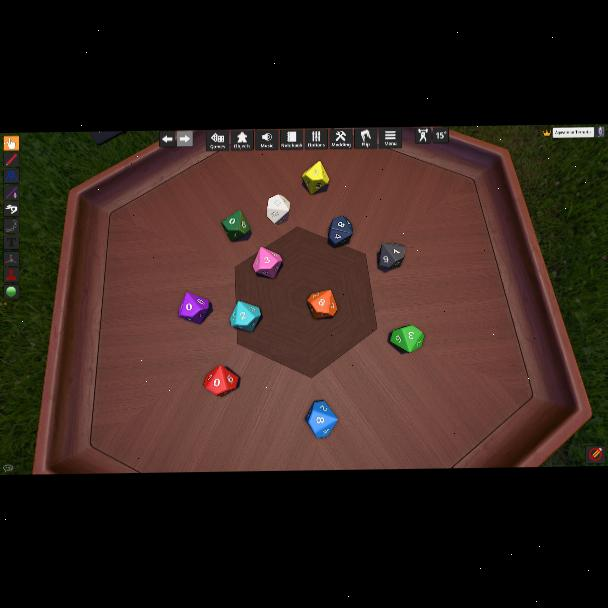d10: (305, 400, 337, 437), (204, 365, 238, 396), (177, 292, 208, 324), (253, 247, 283, 279), (221, 210, 251, 241), (230, 301, 260, 332), (301, 160, 327, 195), (307, 289, 337, 319), (390, 325, 422, 353), (328, 216, 354, 246), (267, 195, 291, 225), (377, 243, 403, 270)
